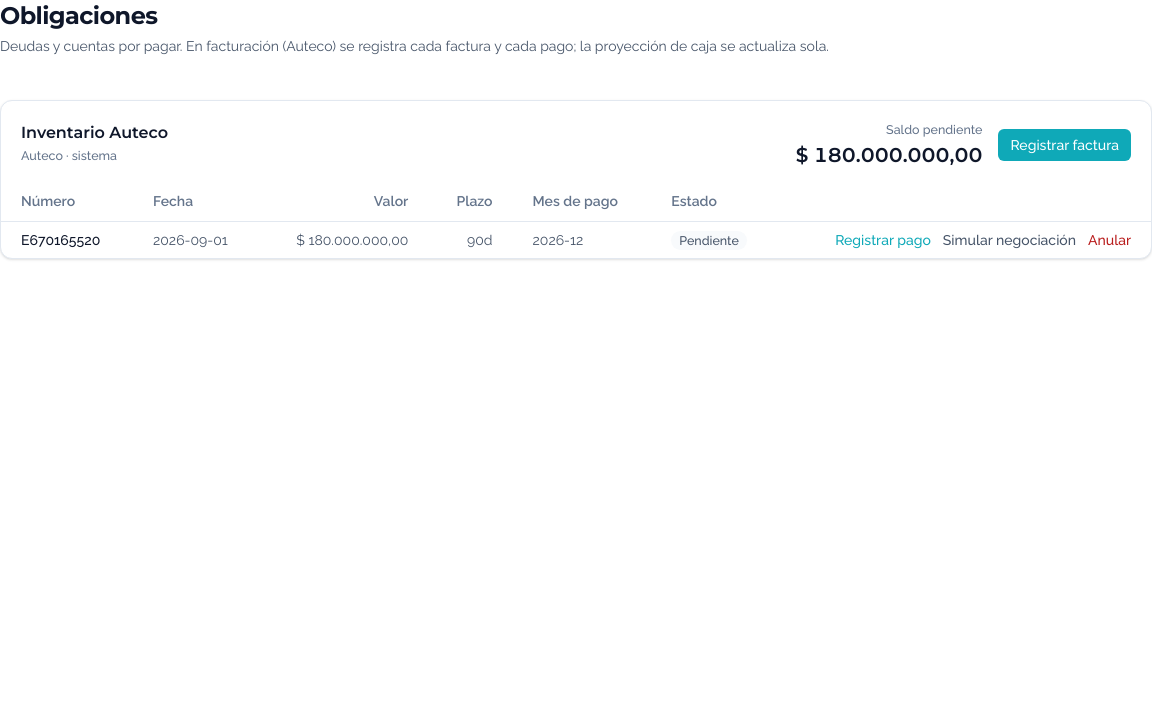
Test: ObligacionesPage — RF-F8 «Simular negociación» › bloquea el submit si NADA cambió (mismo plazo y misma fecha)
Click the button "Simular negociación": click(1009, 240) [943,230,1076,250]
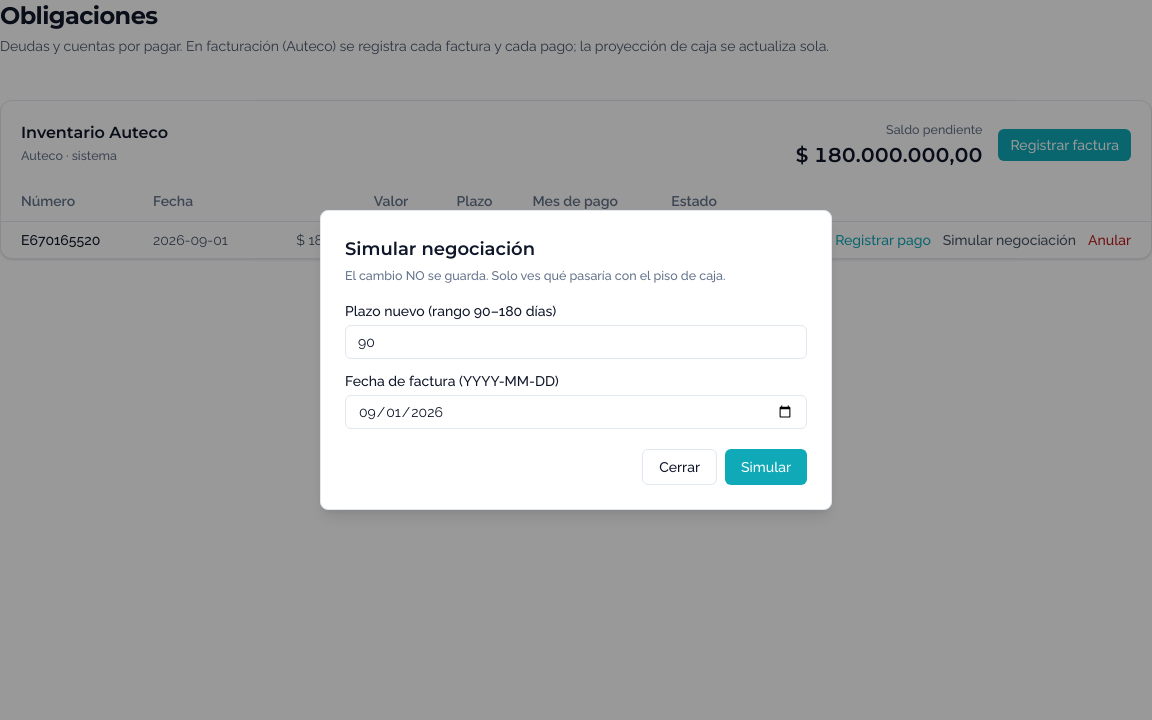
Sin cambiar nada, click simular → error visible, no se llama al backend.
Click the button "Simular": click(766, 467) [725,449,807,485]
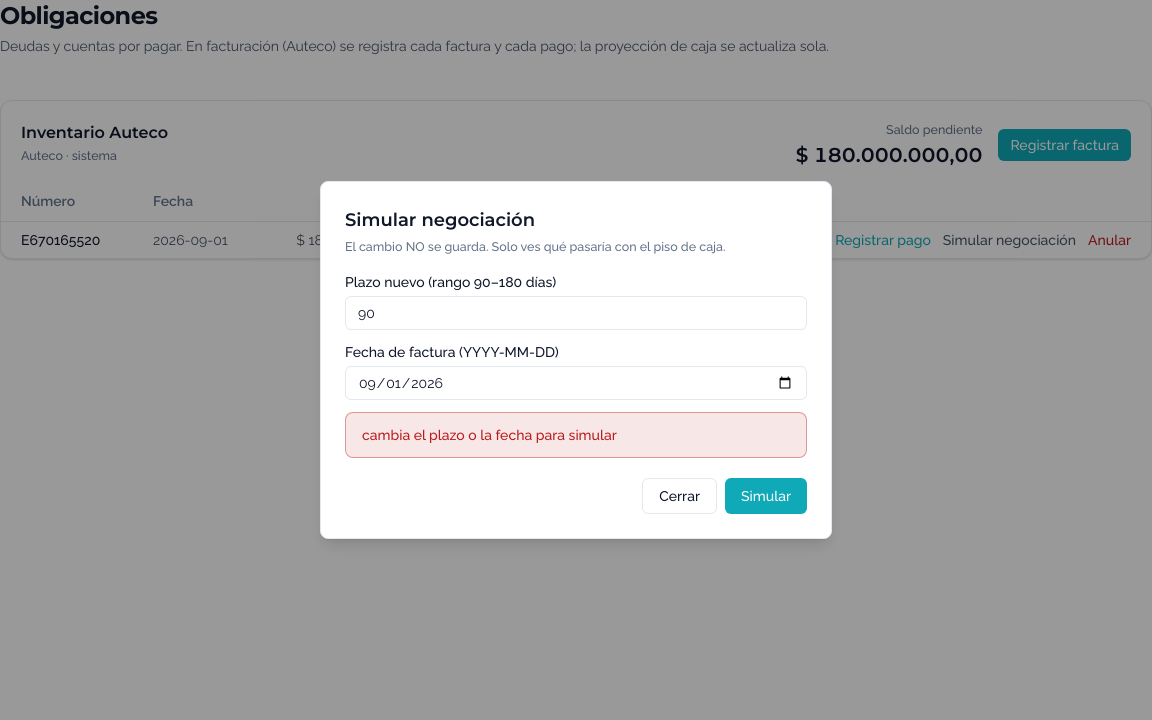
Now the text "cambia el plazo o la fecha para simular" is shown, box [345,412,807,458]
